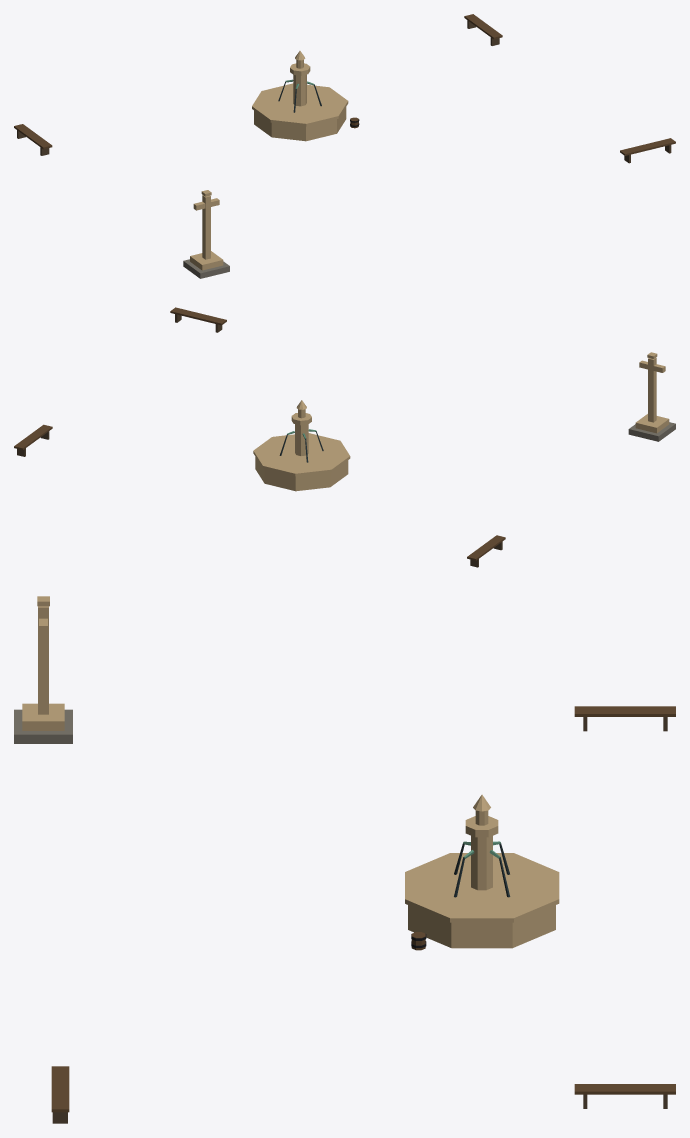
Rendered from marktplatz.glb.
3 renders of one model, top to bottom at view 1: azimuth 30°, elevation 25°; view 2: azimuth 150°, elevation 25°; view 3: azimuth 270°, elevation 25°, orthographic. The views are drawn at different scales.
Parts seen in each view (by area): view 1: Platz; view 2: Platz; view 3: Platz.
Part boxes in pixels (box(x1,y1,x2,y2)): Platz: box(14, 14, 675, 278); Platz: box(14, 307, 675, 567); Platz: box(14, 596, 675, 1123).
Size of the model in its own units: 22.9 by 3.47 by 15.7.
